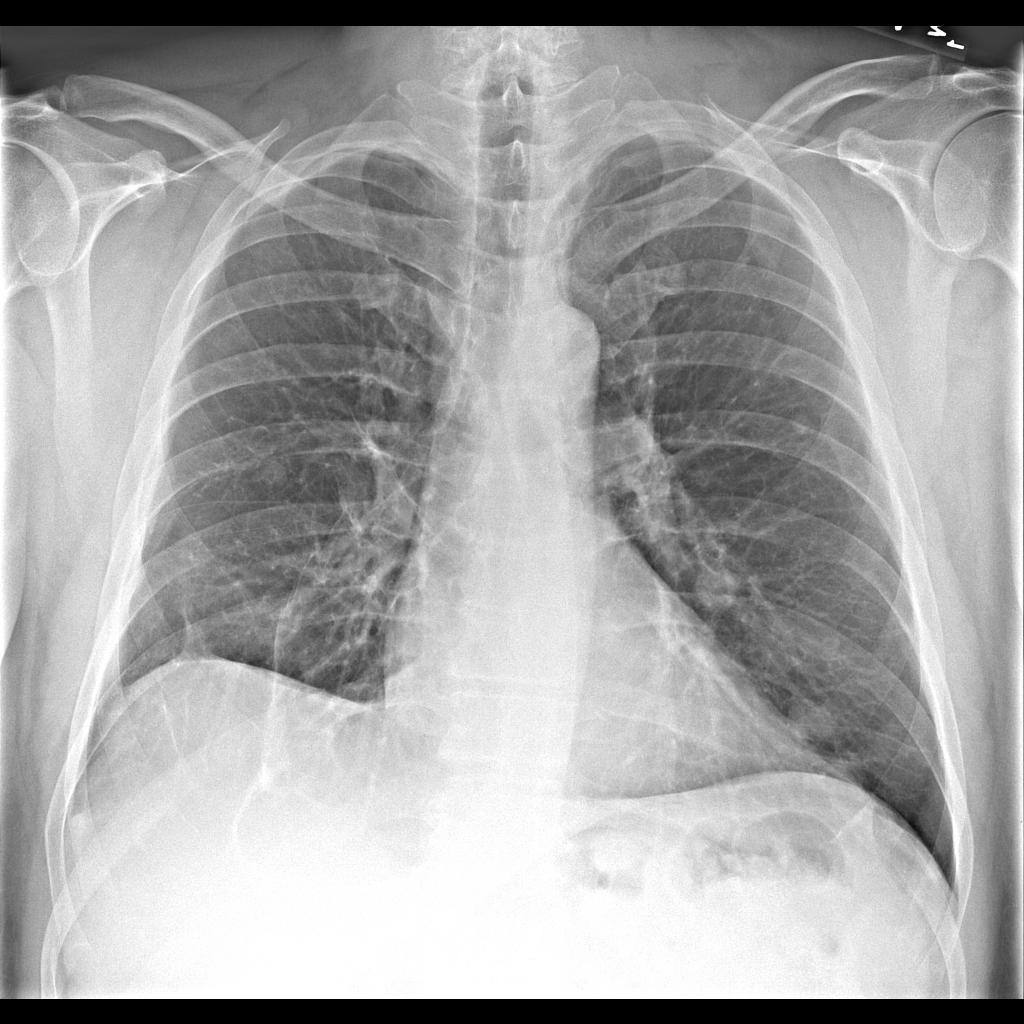Nodule: (776, 687, 848, 764), (690, 555, 752, 628), (782, 411, 823, 442)
